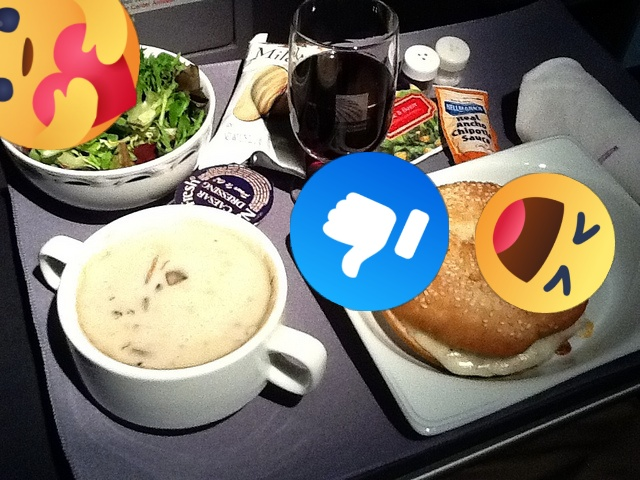care: (0, 0, 140, 150)
haha: (475, 173, 615, 313)
like: (290, 152, 449, 311)
